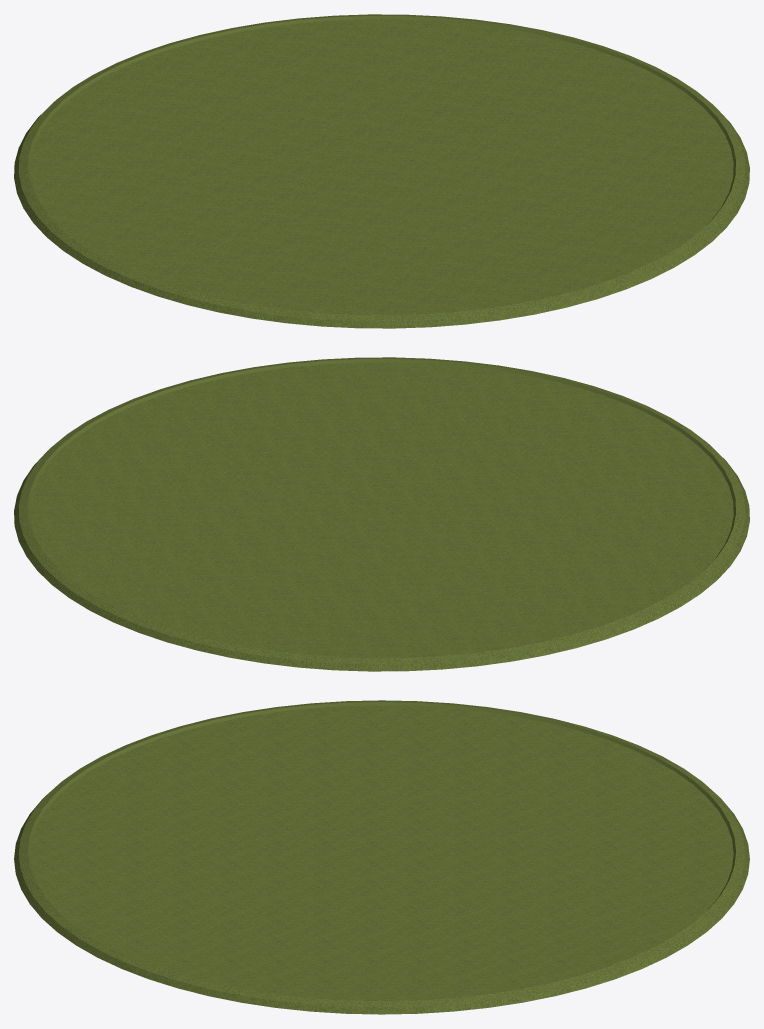
File: CirclePlane_D30.fbx
3 views of the same model, one above another, from view 1: azimuth 30°, elevation 25°; view 2: azimuth 150°, elevation 25°; view 3: azimuth 270°, elevation 25° (orthographic).
Visible parts, largest first — view 1: Circle; view 2: Circle; view 3: Circle.
Boxes of the visible parts, box(x1,y1,x2,y2) form: Circle: box(14, 14, 749, 328); Circle: box(14, 357, 749, 671); Circle: box(14, 700, 749, 1014).
Bounding box in the file's own units: 3125 × 35.19 × 3125.
